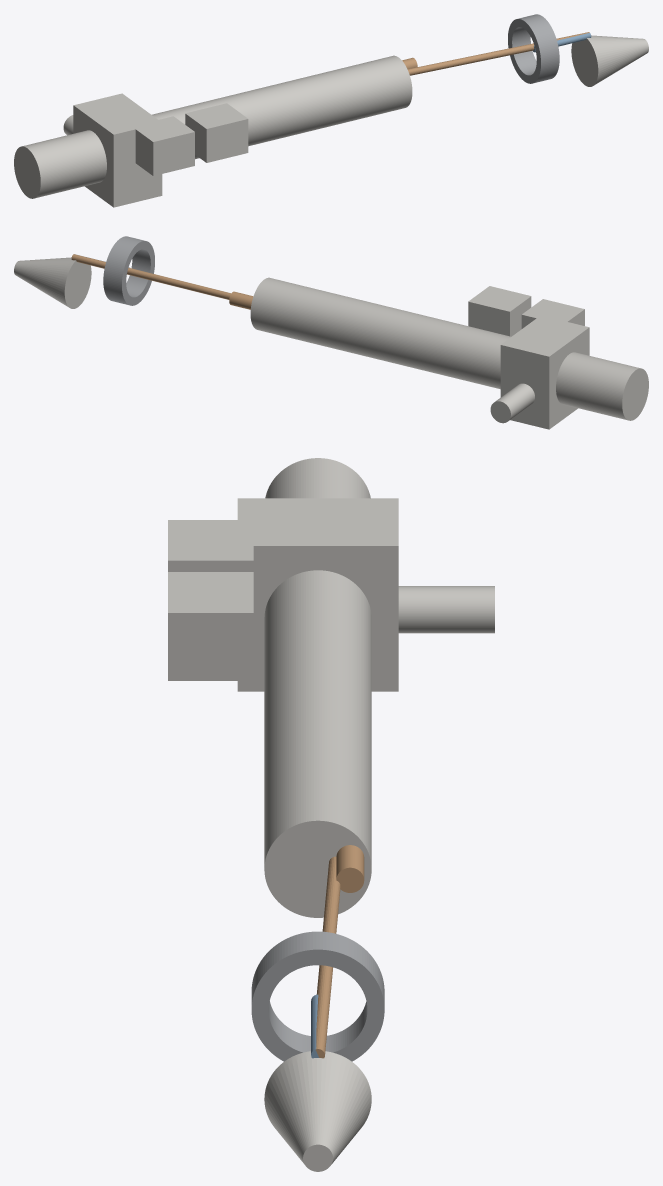
3 renders of one model, top to bottom at view 1: azimuth 30°, elevation 25°; view 2: azimuth 150°, elevation 25°; view 3: azimuth 270°, elevation 25°, orthographic. The views are drawn at different scales.
Visible parts, largest first — view 1: device_shaft, hub, module_01, module_02, sensor_band, distal_tip, link_flow_lumen__distal_tip; view 2: device_shaft, hub, sensor_band, distal_tip, module_01, module_02, link_flow_lumen__distal_tip, flow_lumen; view 3: device_shaft, hub, module_01, distal_tip, sensor_band, module_02, link_flow_lumen__distal_tip, flow_lumen.
Part boxes in pixels (x1=…): device_shaft: x1=14, y1=55, x2=412, y2=198; hub: x1=63, y1=93, x2=162, y2=207; module_01: x1=185, y1=103, x2=248, y2=162; module_02: x1=135, y1=116, x2=194, y2=175; sensor_band: x1=508, y1=14, x2=559, y2=83; distal_tip: x1=571, y1=35, x2=648, y2=86; link_flow_lumen__distal_tip: x1=407, y1=32, x2=589, y2=75; device_shaft: x1=250, y1=277, x2=648, y2=420; hub: x1=490, y1=316, x2=589, y2=429; sensor_band: x1=103, y1=236, x2=154, y2=305; distal_tip: x1=14, y1=257, x2=91, y2=308; module_01: x1=468, y1=286, x2=531, y2=336; module_02: x1=521, y1=299, x2=584, y2=328; link_flow_lumen__distal_tip: x1=71, y1=254, x2=230, y2=299; flow_lumen: x1=229, y1=291, x2=253, y2=309; device_shaft: x1=264, y1=458, x2=371, y2=917; hub: x1=237, y1=498, x2=494, y2=691; module_01: x1=168, y1=572, x2=253, y2=680; distal_tip: x1=264, y1=1051, x2=371, y2=1171; sensor_band: x1=251, y1=931, x2=384, y2=1061; module_02: x1=168, y1=520, x2=253, y2=571; link_flow_lumen__distal_tip: x1=315, y1=856, x2=340, y2=1058; flow_lumen: x1=336, y1=845, x2=364, y2=892.
Bounding box in the file's own units: 13.3 × 1.75 × 3.05.
